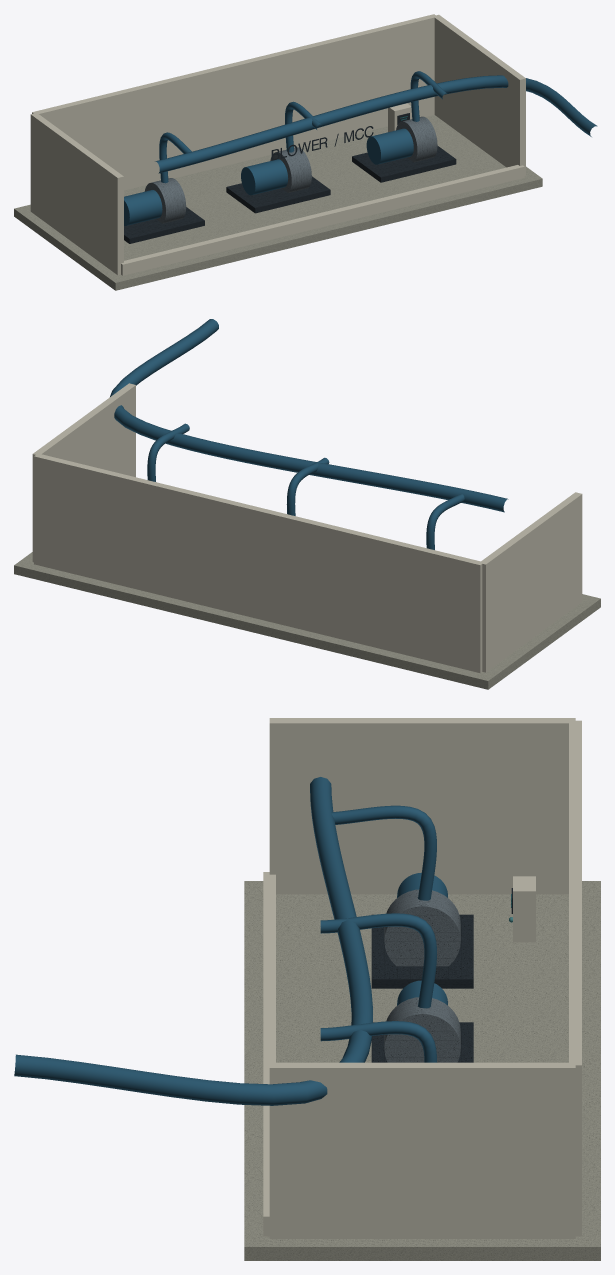
Rendered from water-blower.3a0a93c93ebc.glb.
The picture shows the model from 3 angles, top to bottom: view 1: azimuth 30°, elevation 25°; view 2: azimuth 150°, elevation 25°; view 3: azimuth 270°, elevation 25°; orthographic projection. The views are drawn at different scales.
Visible parts, largest first — view 1: structure_cream_00033, structure_concrete_00032, structure_blue_00035, structure_dark_00034, structure_steel_00036; view 2: structure_cream_00033, structure_concrete_00032, structure_blue_00035; view 3: structure_cream_00033, structure_concrete_00032, structure_blue_00035, structure_steel_00036, structure_dark_00034.
Part boxes in pixels (box(x1,y1,x2,y2)): structure_cream_00033: box(30, 14, 525, 275); structure_concrete_00032: box(14, 115, 542, 290); structure_blue_00035: box(124, 71, 597, 225); structure_dark_00034: box(124, 113, 456, 243); structure_steel_00036: box(144, 116, 437, 223); structure_cream_00033: box(32, 383, 582, 673); structure_concrete_00032: box(14, 552, 600, 689); structure_blue_00035: box(110, 319, 508, 549); structure_cream_00033: box(263, 718, 581, 1238); structure_concrete_00032: box(244, 881, 600, 1260); structure_blue_00035: box(14, 777, 447, 1105); structure_steel_00036: box(384, 889, 460, 1062); structure_dark_00034: box(371, 888, 512, 1062).
Bounding box in the file's own units: 17.25 × 4.22 × 11.52.
7 materials, 3 textured.
